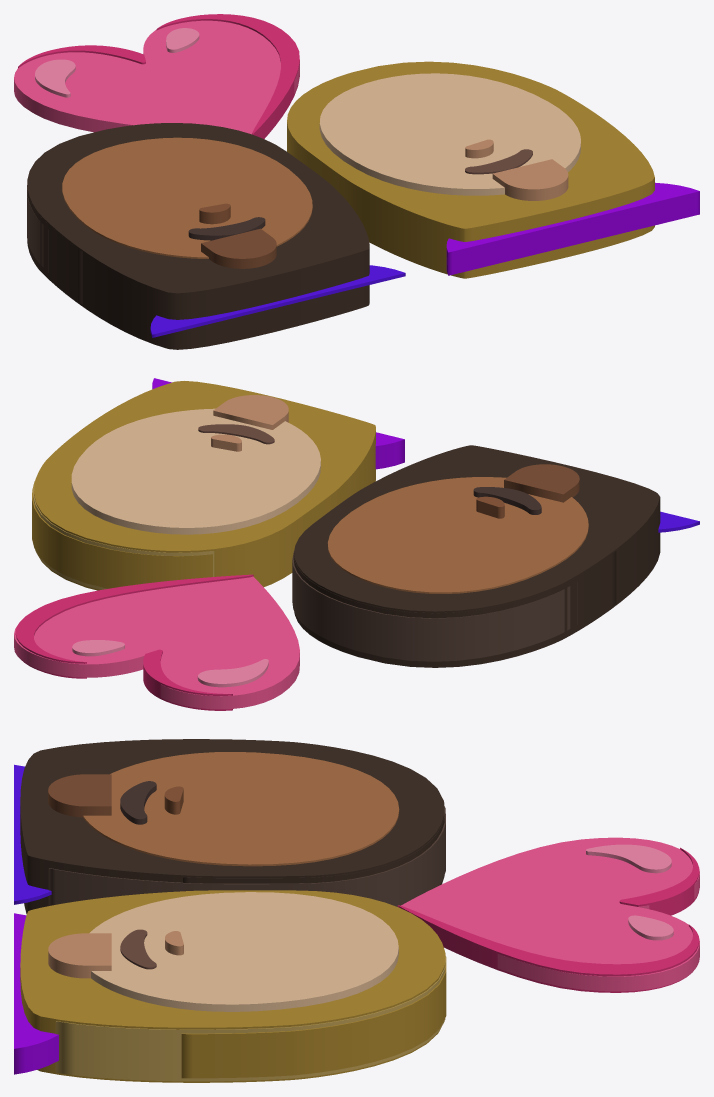
The model's file is emoji_u1f469_1f3fe_200d_2764_200d_1f469_1f3fc.glb.
The picture shows the model from 3 angles, top to bottom: view 1: azimuth 30°, elevation 25°; view 2: azimuth 150°, elevation 25°; view 3: azimuth 270°, elevation 25°; orthographic projection. The views are drawn at different scales.
Parts seen in each view (by area): view 1: emoji_u1f469_1f3fe_200d_2764_200d_1f469_1f3fc; view 2: emoji_u1f469_1f3fe_200d_2764_200d_1f469_1f3fc; view 3: emoji_u1f469_1f3fe_200d_2764_200d_1f469_1f3fc.
Part boxes in pixels (x1,y1,x2,y2): emoji_u1f469_1f3fe_200d_2764_200d_1f469_1f3fc: [14, 14, 699, 349]; emoji_u1f469_1f3fe_200d_2764_200d_1f469_1f3fc: [14, 378, 699, 710]; emoji_u1f469_1f3fe_200d_2764_200d_1f469_1f3fc: [14, 739, 699, 1082].
Bounding box in the file's own units: 0.0345 × 0.005 × 0.0338.
